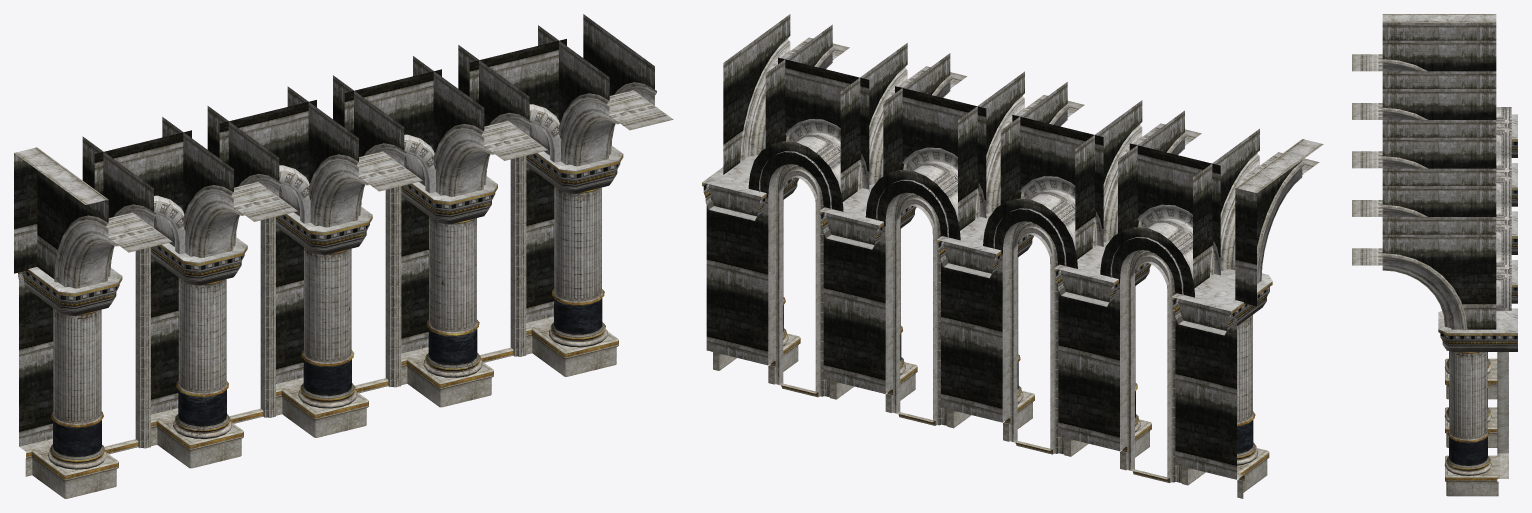
The model's file is KnightCastle_Hallway_Pillar_01.FBX.
3 renders of one model, left to right at view 1: azimuth 30°, elevation 25°; view 2: azimuth 150°, elevation 25°; view 3: azimuth 270°, elevation 25°, orthographic. The views are drawn at different scales.
Parts seen in each view (by area): view 1: SM_KnightCastle_Hallway_Pillar_01; view 2: SM_KnightCastle_Hallway_Pillar_01; view 3: SM_KnightCastle_Hallway_Pillar_01.
Part boxes in pixels (x1,y1,x2,y2): SM_KnightCastle_Hallway_Pillar_01: (14,14,673,498); SM_KnightCastle_Hallway_Pillar_01: (702,14,1323,498); SM_KnightCastle_Hallway_Pillar_01: (1352,14,1517,496).
Size of what is drawn, in the model's own units: 2594 by 810 by 1404.
